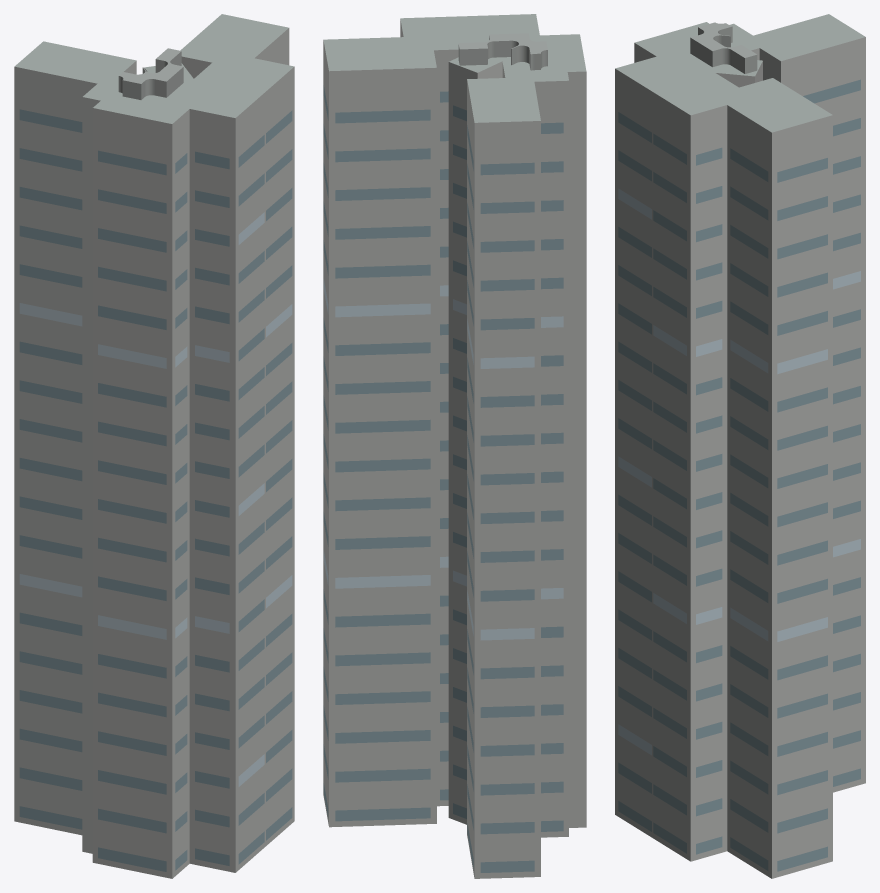
File: fallback-seoulforest-riverview-xi-103.glb
The picture shows the model from 3 angles, left to right: view 1: azimuth 30°, elevation 25°; view 2: azimuth 150°, elevation 25°; view 3: azimuth 270°, elevation 25°; orthographic projection.
Parts seen in each view (by area): view 1: fallback-seoulforest-riverview-xi-103; view 2: fallback-seoulforest-riverview-xi-103; view 3: fallback-seoulforest-riverview-xi-103.
Part boxes in pixels (<box>): fallback-seoulforest-riverview-xi-103: <box>14,14,294,878</box>; fallback-seoulforest-riverview-xi-103: <box>323,14,586,878</box>; fallback-seoulforest-riverview-xi-103: <box>615,14,865,878</box>.
Bounding box in the file's own units: 38.06 × 114 × 33.99.
